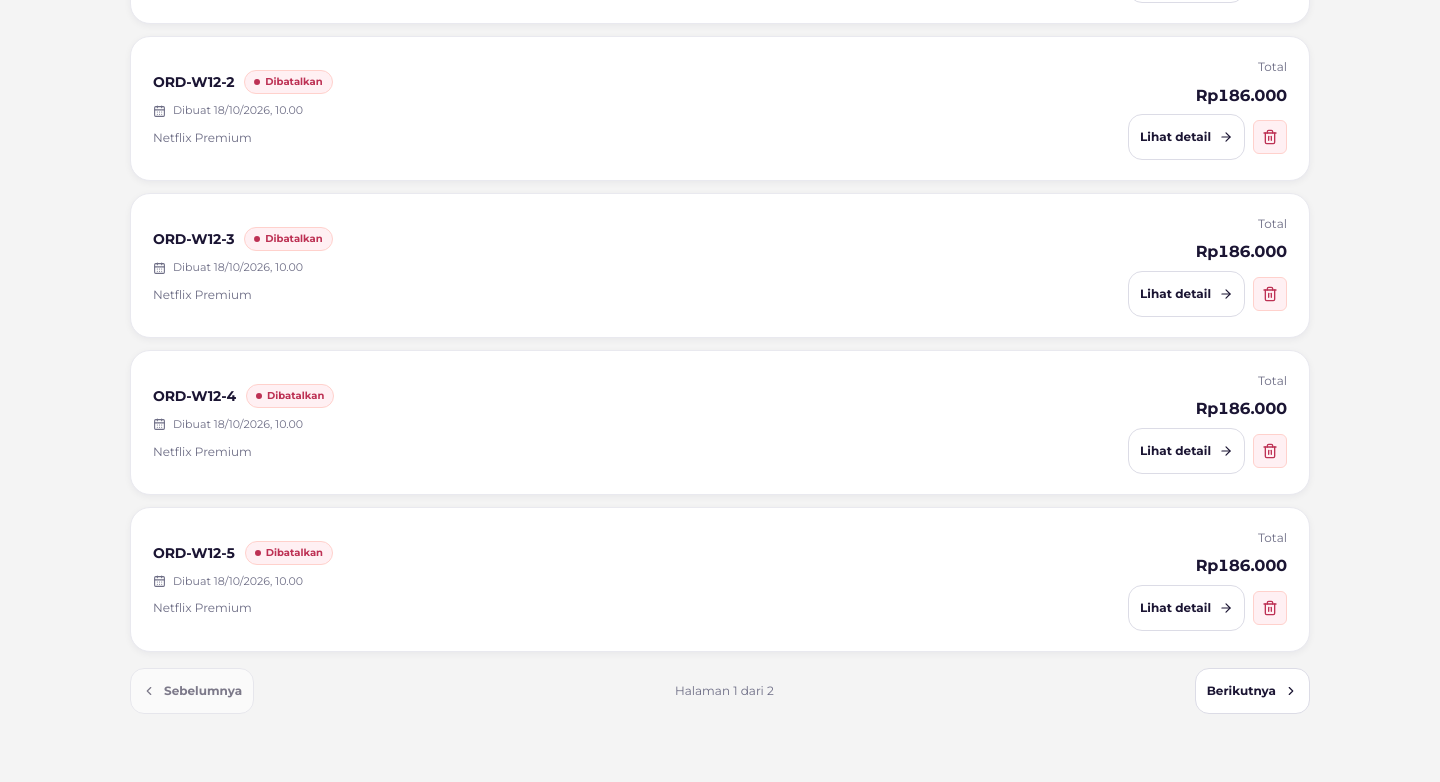
riwayat pesanan pelanggan › kembali ke halaman sebelumnya setelah item terakhir halaman diarsipkan
The width and height of the screenshot is (1440, 782).
(page scrolled)
Click the button "Berikutnya": [1252, 690] box [1195,668,1310,714]
(page scrolled)
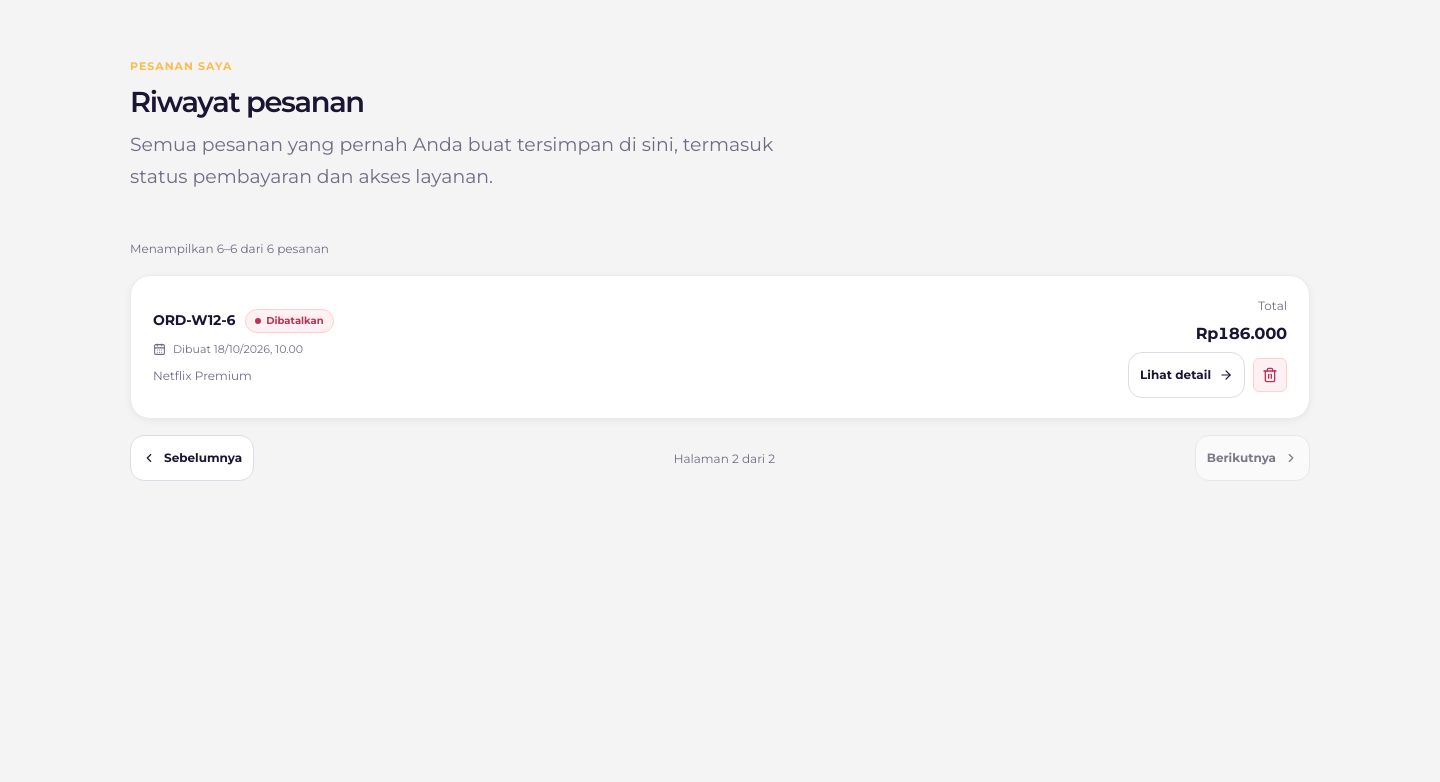
expect the text "ORD-W12-6" is shown: met, box [153,309,235,332]
Click the button named "Hapus pesanan ORD-W12-6 dari riwayat": [1270, 375] box [1253,358,1287,392]
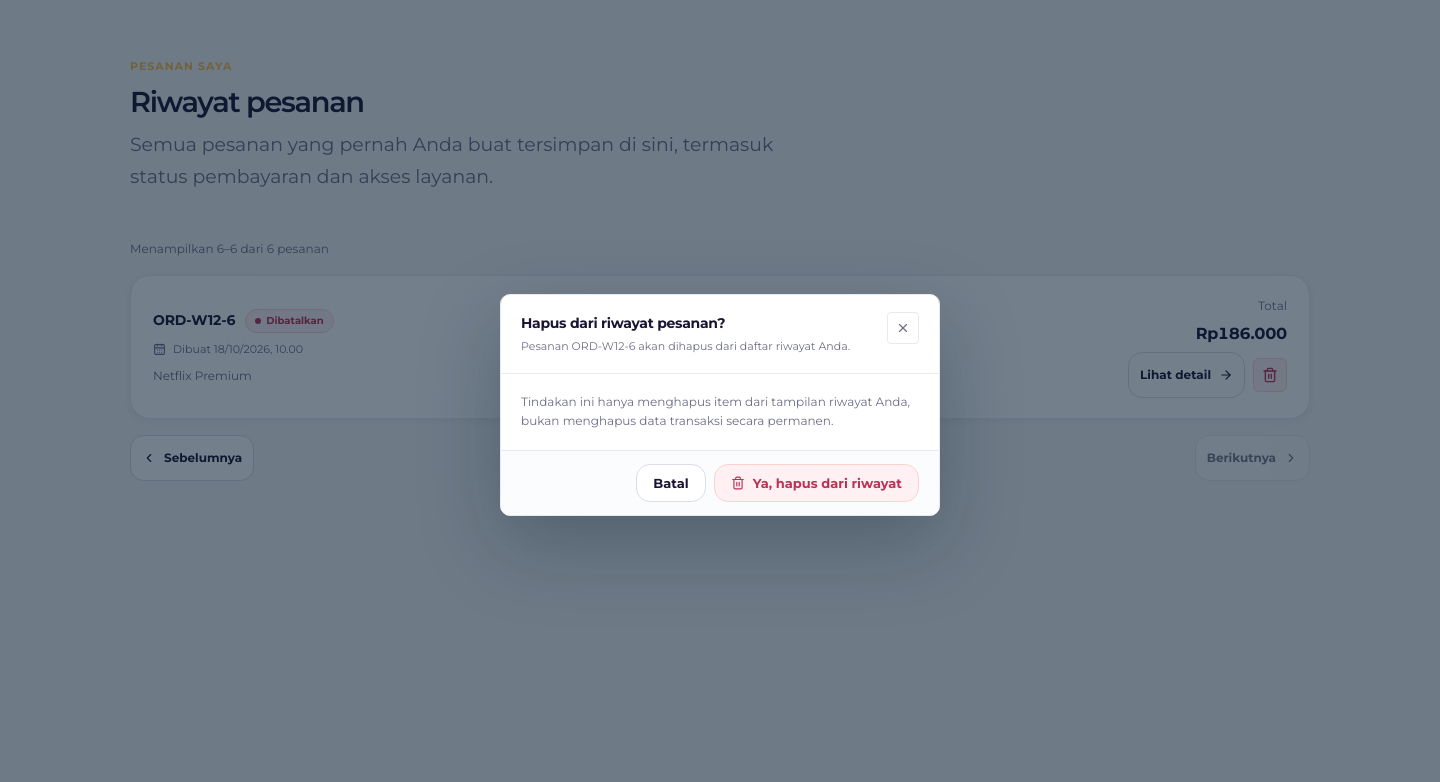
Click the button "Ya, hapus dari riwayat": [816, 483] box [714,464,919,502]
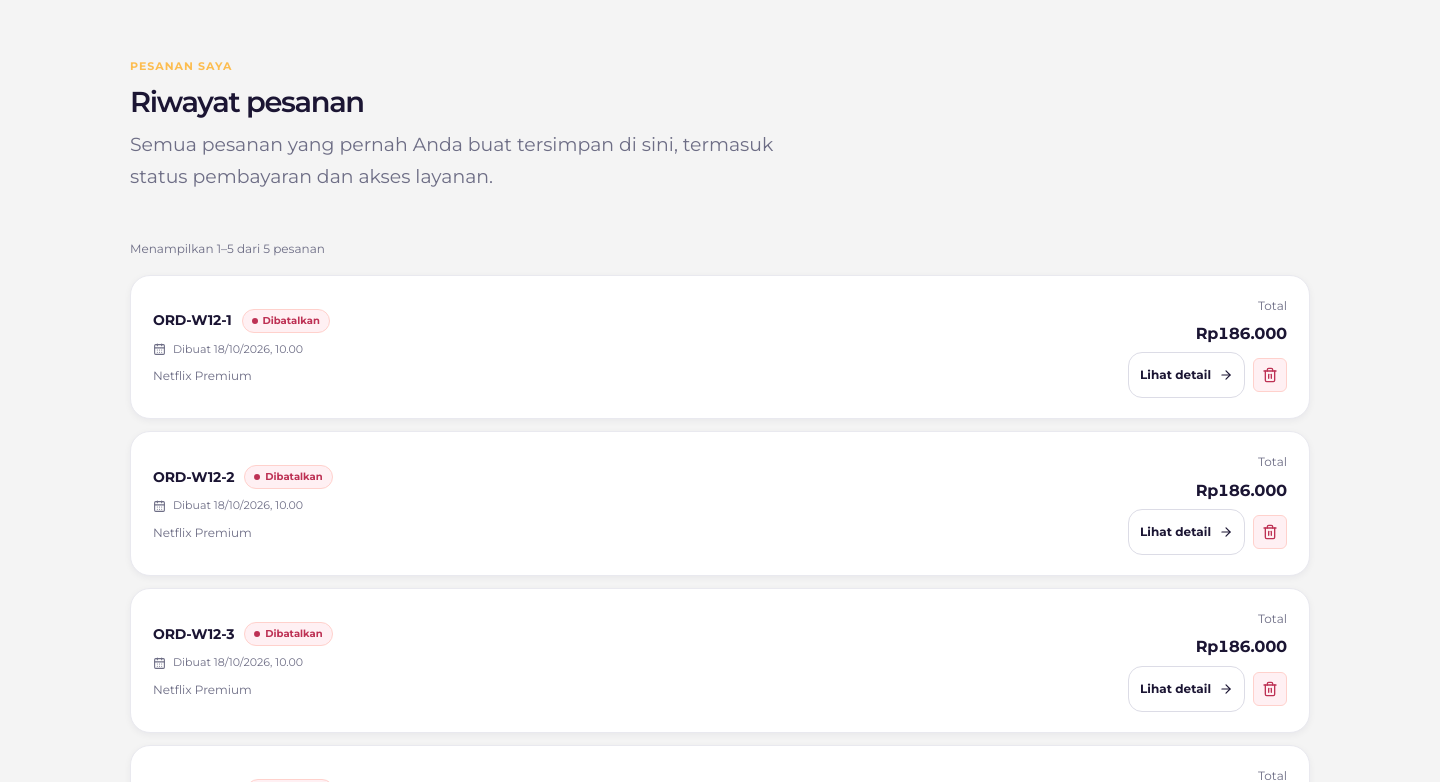
expect the text "ORD-W12-1" is shown: met, box [153,309,232,332]
expect the text "Menampilkan 1–5 dari 5 pesanan" is shown: met, box [130,240,325,259]
